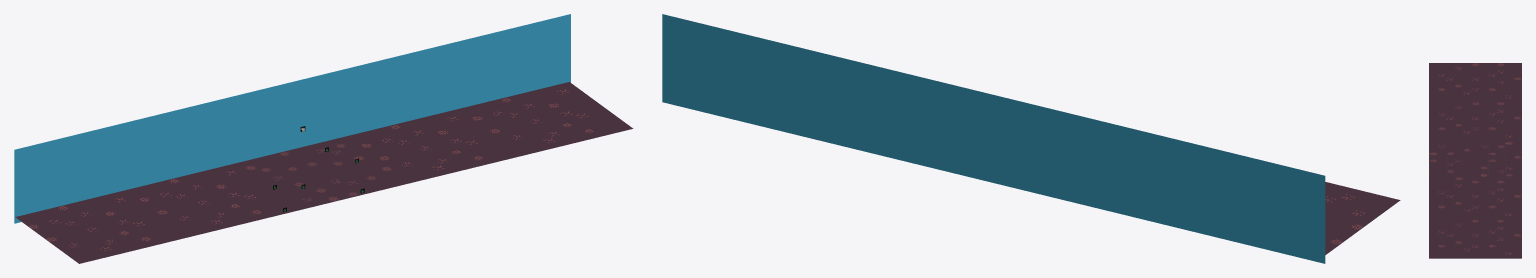
File: level.gltf
3 views of the same model, side by side, from view 1: azimuth 30°, elevation 25°; view 2: azimuth 150°, elevation 25°; view 3: azimuth 270°, elevation 25° (orthographic). The views are drawn at different scales.
Visible parts, largest first — view 1: Plane.004, floor-next, floor-next.001, floor-prev.001, floor-prev, Plane; view 2: Plane.004, floor-prev.001; view 3: floor-next, floor-next.001, floor-prev, floor-prev.001, Plane.
Part boxes in pixels (left/top/right/bottom): Plane.004: left=14, top=14, right=570, bottom=223; floor-next: left=348, top=109, right=522, bottom=182; floor-next.001: left=459, top=82, right=633, bottom=155; floor-prev.001: left=15, top=190, right=189, bottom=263; floor-prev: left=126, top=163, right=300, bottom=236; Plane: left=237, top=136, right=411, bottom=209; Plane.004: left=662, top=14, right=1325, bottom=263; floor-prev.001: left=1325, top=182, right=1400, bottom=254; floor-next: left=1429, top=180, right=1521, bottom=219; floor-next.001: left=1429, top=219, right=1521, bottom=258; floor-prev: left=1429, top=102, right=1521, bottom=141; floor-prev.001: left=1429, top=63, right=1521, bottom=102; Plane: left=1429, top=141, right=1521, bottom=180.
Size of the model in its own units: 50.21 by 6.38 by 10.02.
Materials: 2 (2 with a texture image).
